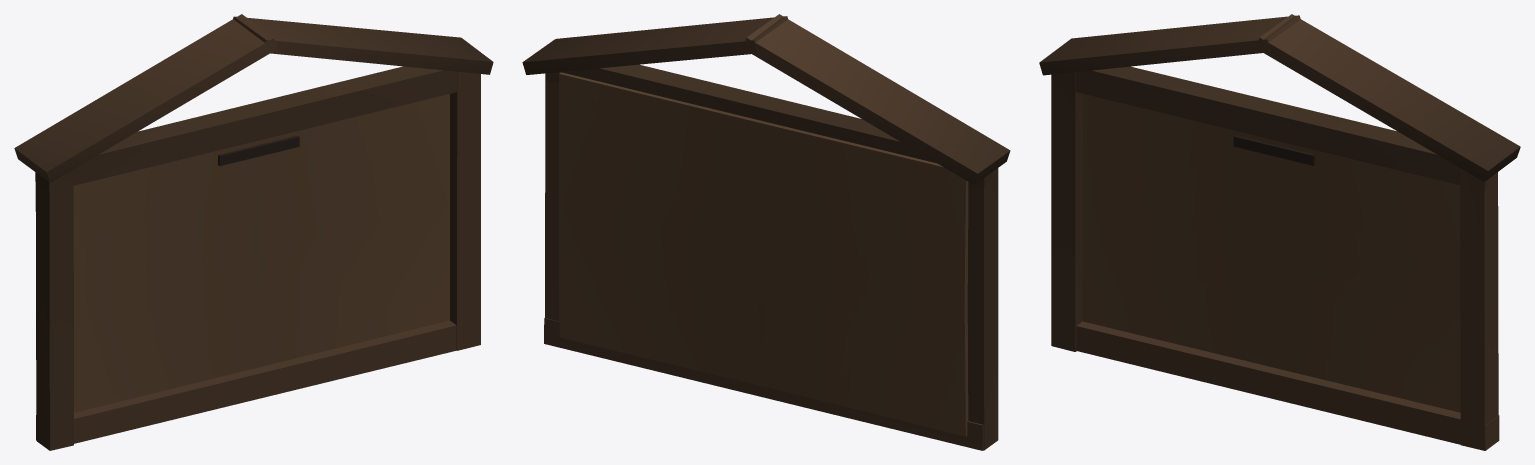
File: ph_int_name_board.glb
3 views of the same model, side by side, from view 1: azimuth 30°, elevation 25°; view 2: azimuth 150°, elevation 25°; view 3: azimuth 330°, elevation 25° (orthographic).
Parts seen in each view (by area): view 1: ph_int_name_board; view 2: ph_int_name_board; view 3: ph_int_name_board.
Part boxes in pixels (<box>): ph_int_name_board: <box>14,14,493,450</box>; ph_int_name_board: <box>522,14,1010,450</box>; ph_int_name_board: <box>1039,14,1520,450</box>.
Size of the model in its own units: 1.12 by 0.8694 by 0.1419.
